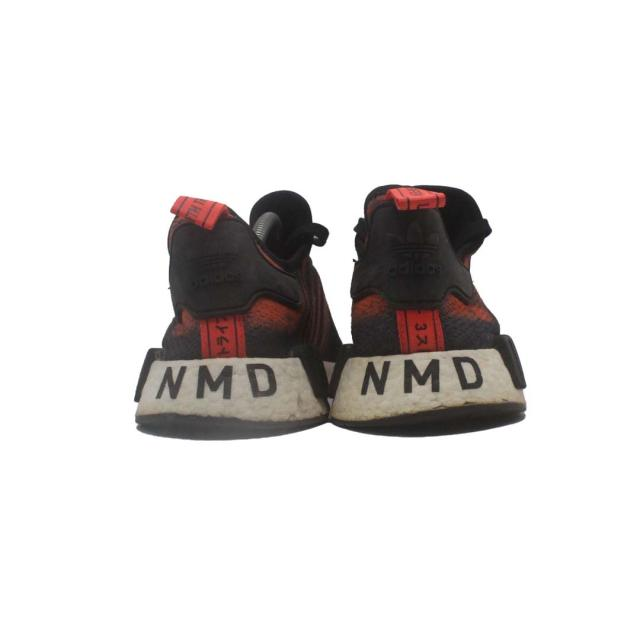heel: (340, 174, 507, 351), (143, 176, 302, 356)
midsole: (127, 345, 526, 436)
